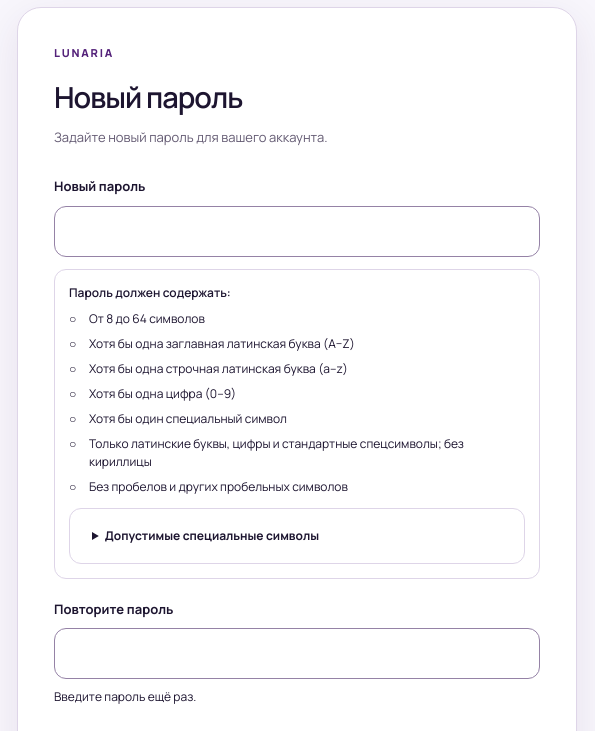
Scenario: reset token remains in memory only and is removed from URL before form submission
Step 1. Type "Abcdef1!" into the password field labelled "Новый пароль" → (297, 231), box [54,206,540,257]
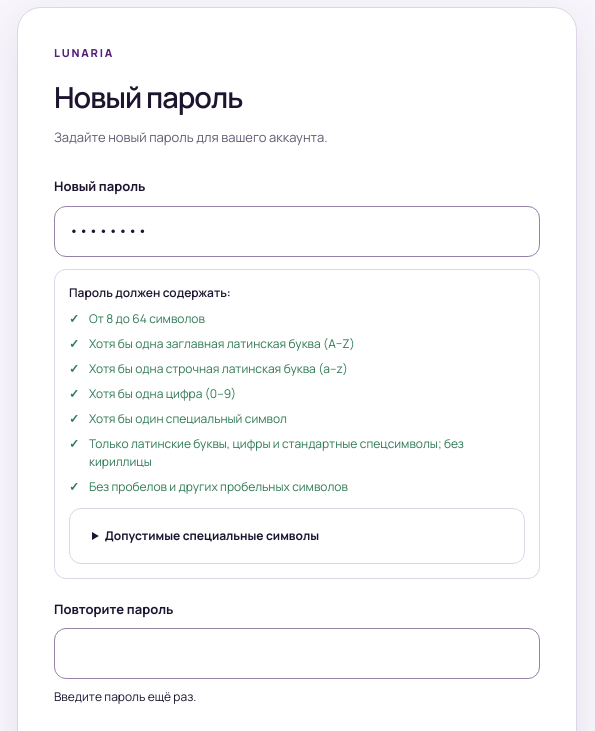
Step 2. Type "different" into the password field labelled "Повторите пароль" → (297, 653), box [54,628,540,679]
(page scrolled)
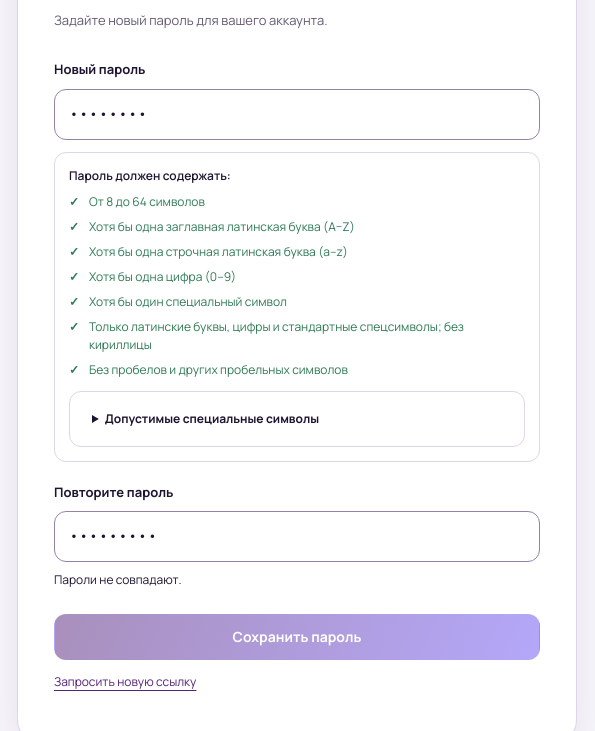
Step 3. Submit the form
Step 4. Type "Abcdef1!" into the password field labelled "Повторите пароль" → (297, 536), box [54,511,540,562]
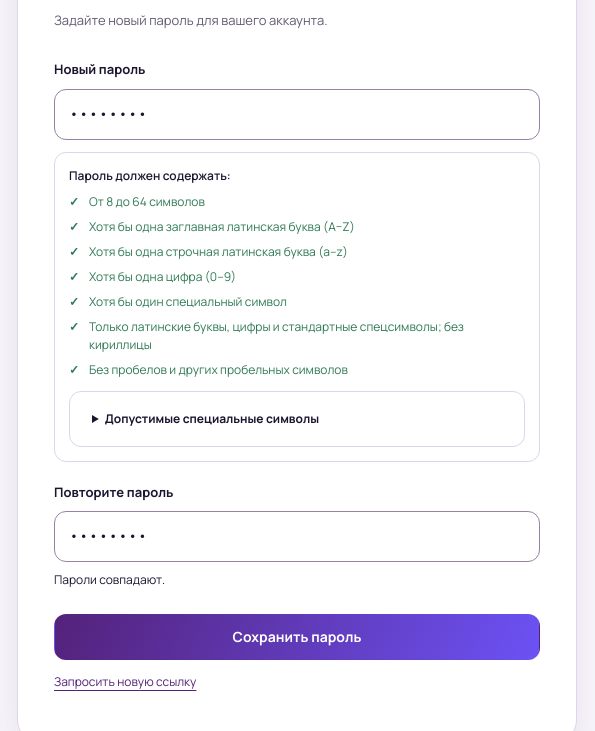
Step 5. Submit the form
(page scrolled)
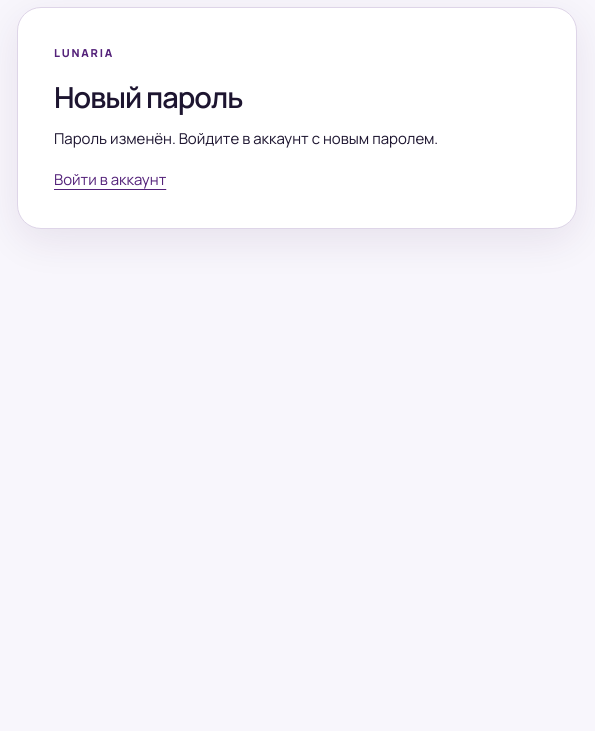
Result: the text "Пароль изменён" is shown at [54,128,438,149]
Result: the form is gone
